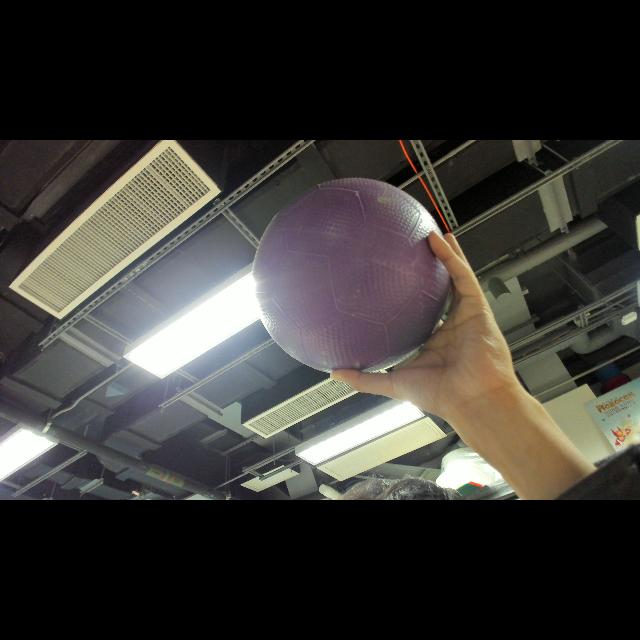P: (250, 175, 456, 378)
